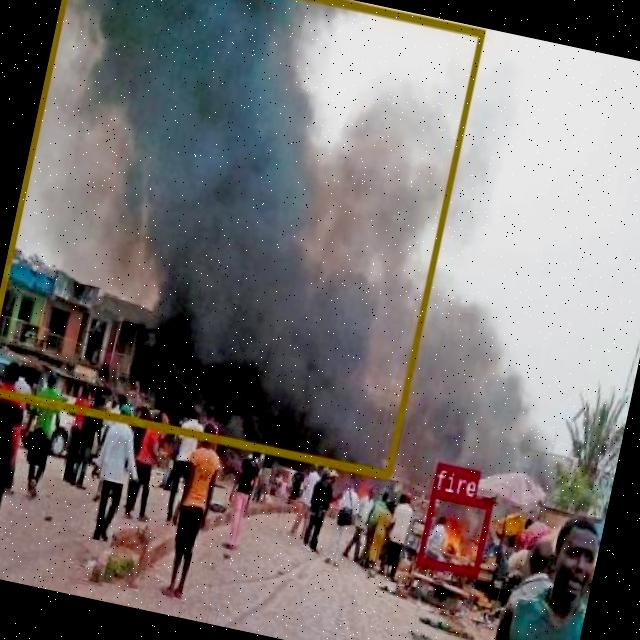fire: (415, 487, 492, 575)
smoke: (0, 0, 484, 477)
